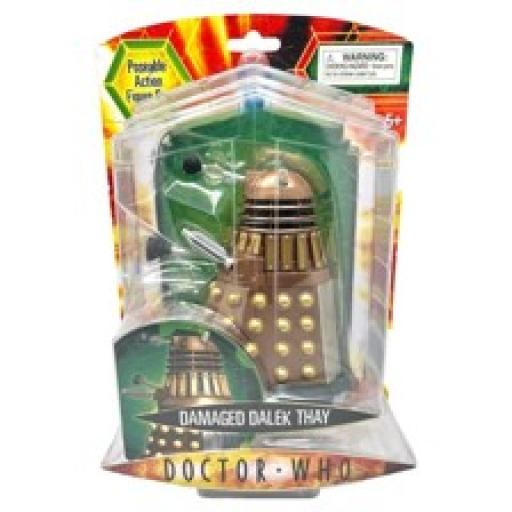dalek: (141, 156, 352, 397), (128, 328, 232, 462)
